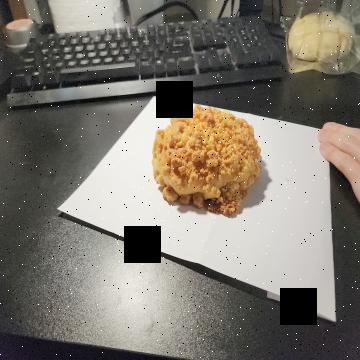soboru_bread: (150, 108, 261, 221)
